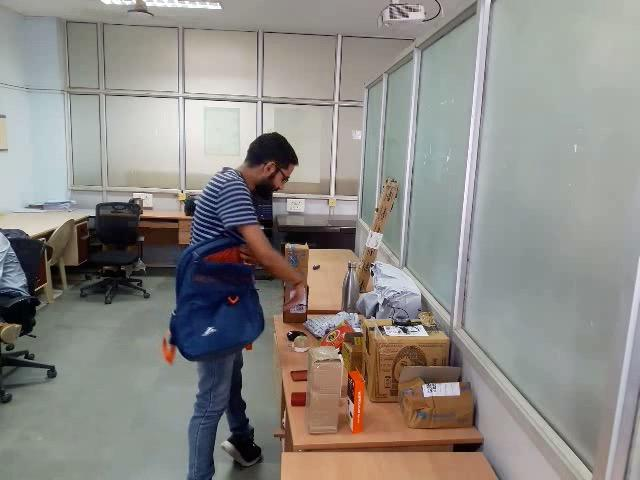shoplifting: (128, 201, 335, 366)
